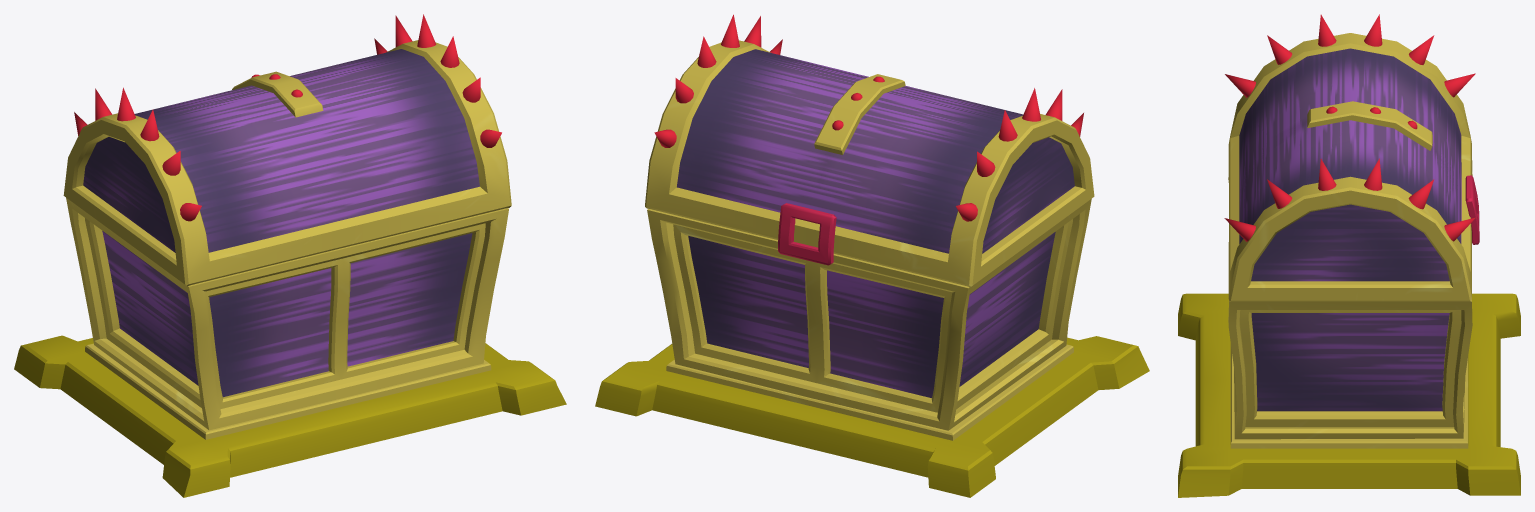
File: TChest_lvl3.fbx
3 views of the same model, side by side, from view 1: azimuth 30°, elevation 25°; view 2: azimuth 150°, elevation 25°; view 3: azimuth 270°, elevation 25° (orthographic). The views are drawn at different scales.
Visible parts, largest first — view 1: Cube.002, Cylinder.001, Cone.002; view 2: Cube.002, Cylinder.001, Cone.002, Cube.003; view 3: Cube.002, Cylinder.001, Cone.002, Cube.003.
Boxes of the visible parts, <box> form: Cube.002: <box>14,198,566,497</box>; Cylinder.001: <box>63,40,511,286</box>; Cone.002: <box>74,14,501,221</box>; Cube.002: <box>595,199,1149,497</box>; Cylinder.001: <box>645,40,1094,287</box>; Cone.002: <box>654,14,1083,221</box>; Cube.003: <box>778,203,836,265</box>; Cube.002: <box>1178,160,1520,497</box>; Cylinder.001: <box>1228,33,1471,301</box>; Cone.002: <box>1224,14,1475,241</box>; Cube.003: <box>1465,175,1479,244</box>.
Bounding box in the file's own units: 193 × 157 × 152.
